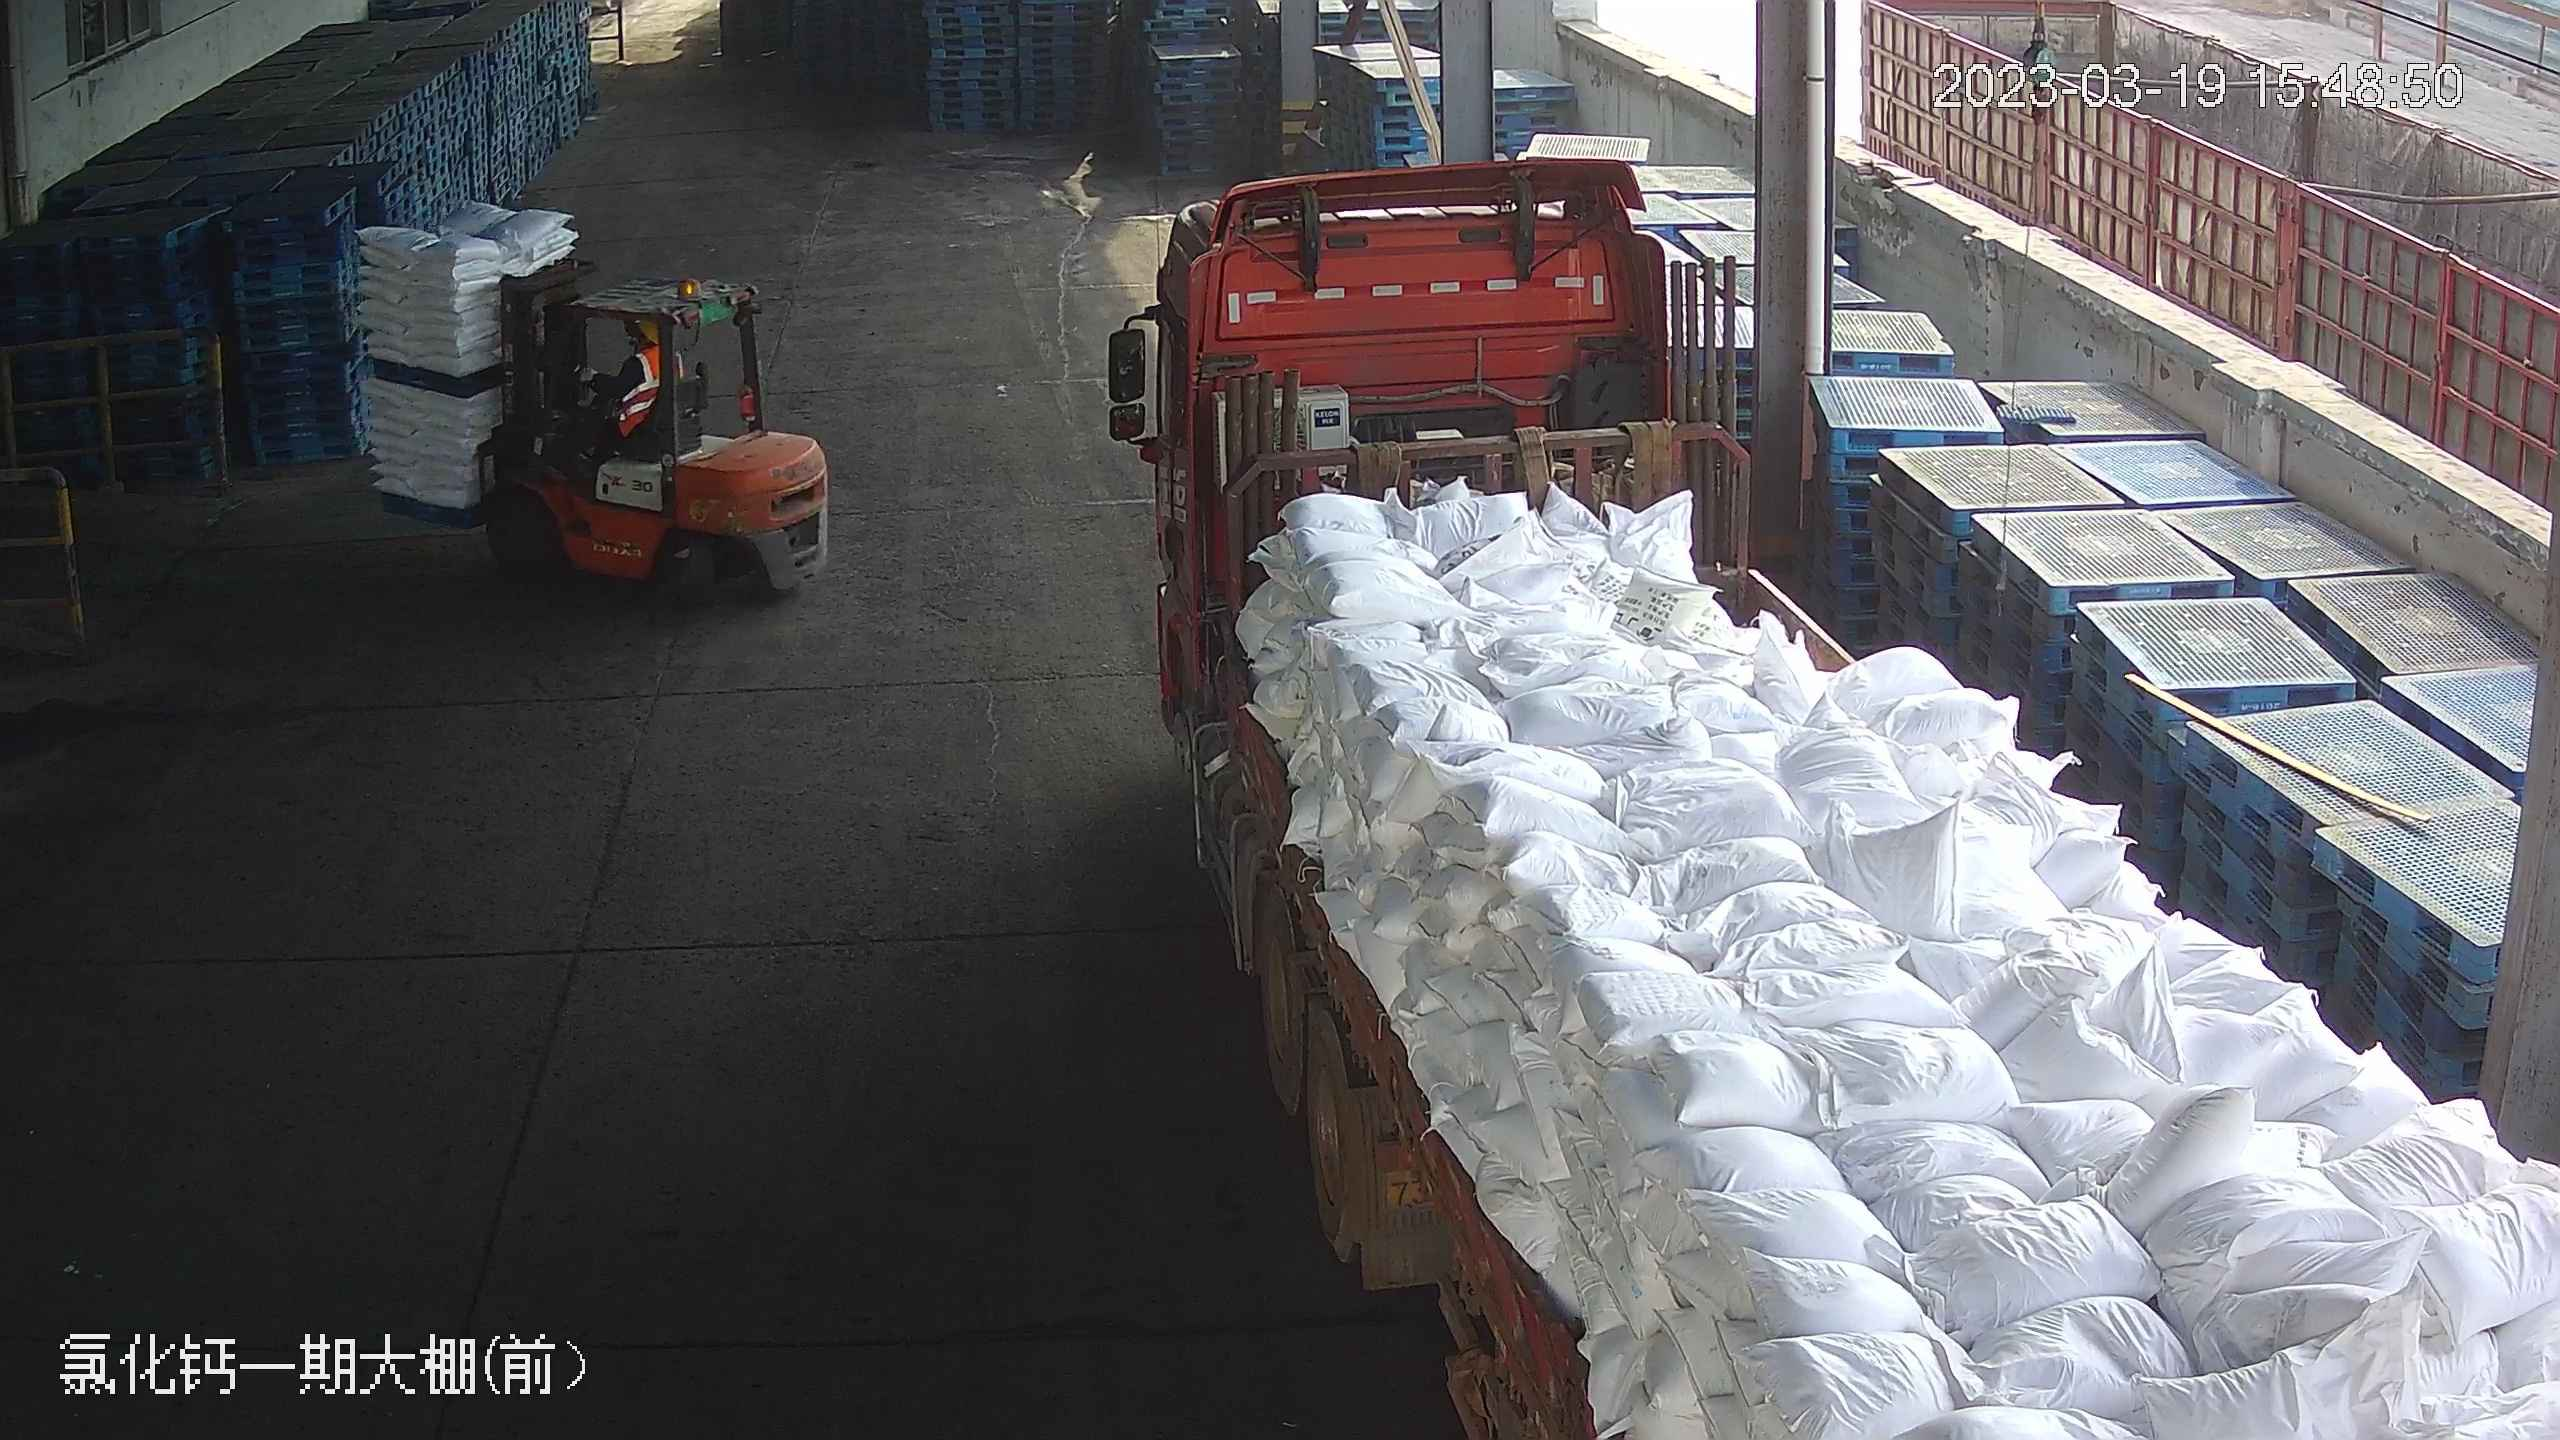head: (613, 310, 669, 376)
helmet: (633, 312, 662, 346)
people: (570, 309, 670, 470)
truck: (1099, 153, 2531, 1440)
